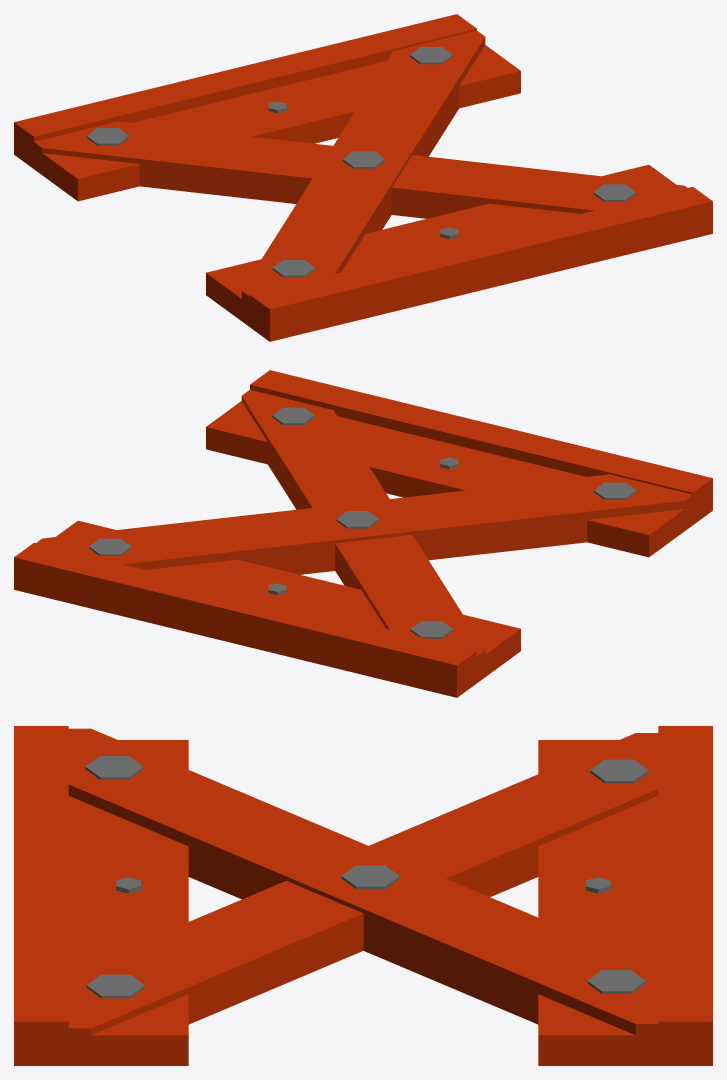
Rendered from Prop_Industrial_Beams_Brace_Half_04.FBX.
The picture shows the model from 3 angles, top to bottom: view 1: azimuth 30°, elevation 25°; view 2: azimuth 150°, elevation 25°; view 3: azimuth 270°, elevation 25°; orthographic projection. The views are drawn at different scales.
Parts seen in each view (by area): view 1: Prop_Industrial_Beams_Brace_Half_04; view 2: Prop_Industrial_Beams_Brace_Half_04; view 3: Prop_Industrial_Beams_Brace_Half_04.
Boxes of the visible parts, x1,y1,x2,y2 form: Prop_Industrial_Beams_Brace_Half_04: (14, 14, 712, 341); Prop_Industrial_Beams_Brace_Half_04: (14, 370, 712, 697); Prop_Industrial_Beams_Brace_Half_04: (14, 726, 712, 1065).
Size of the model in its own units: 2000 by 140 by 2000.
